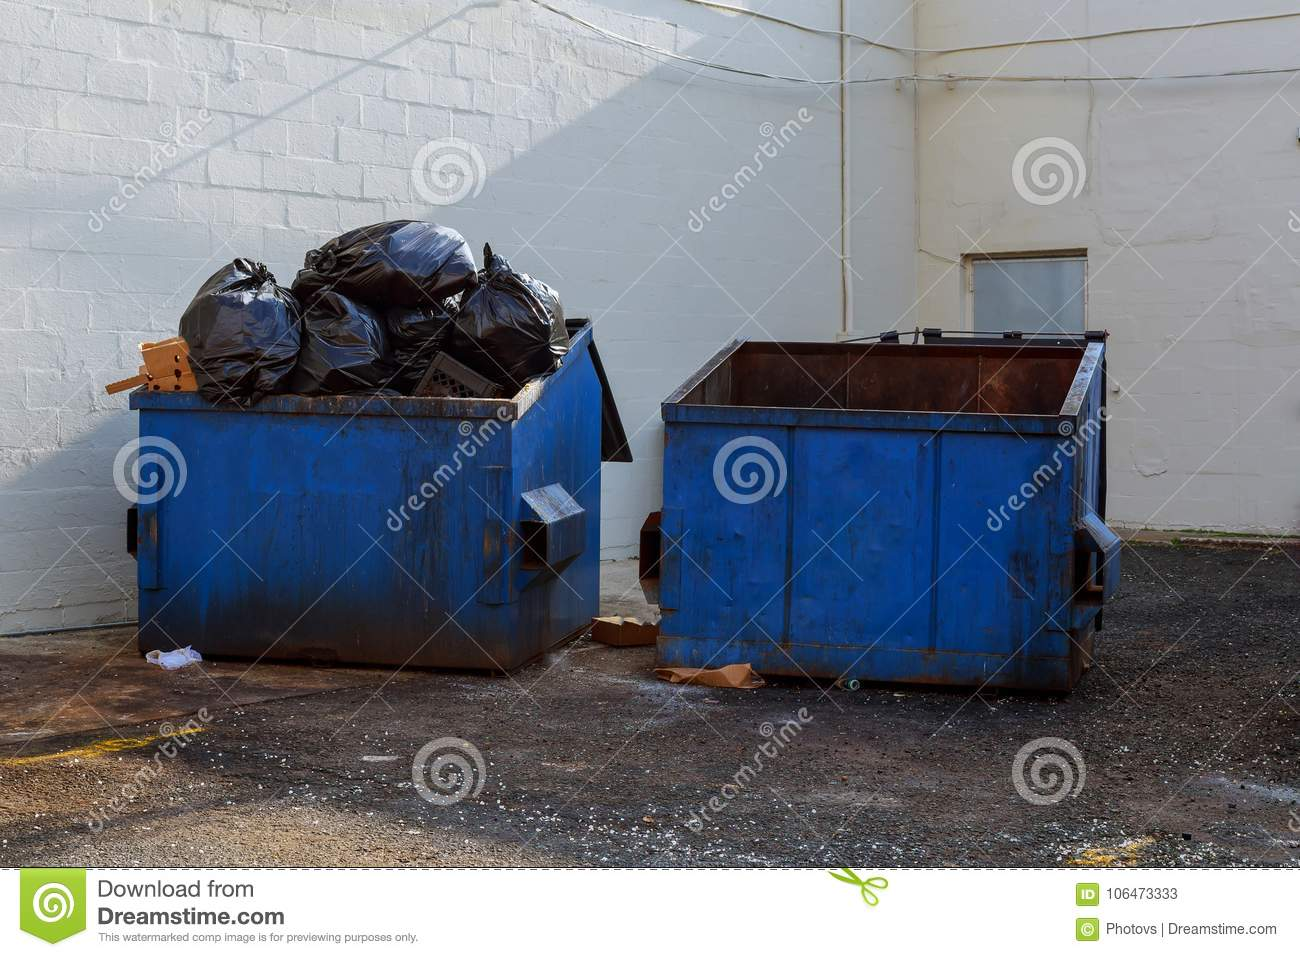Dumpster: (105, 288, 644, 689), (632, 324, 1162, 726)
